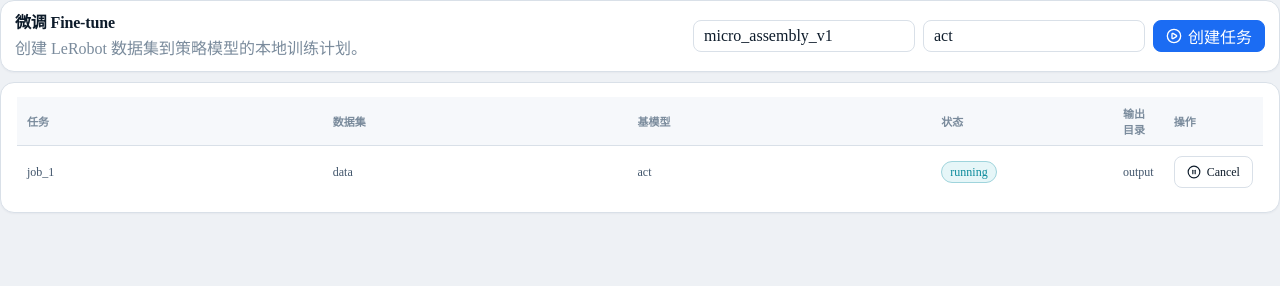
Test case: fineTune 请求生命周期 › 命令失败会显示错误并恢复可操作状态
Expected: the text "job_1" is shown, [17,146,323,198]
Click the button "创建任务" at {"x": 1209, "y": 36}, box [1153,20,1265,52]
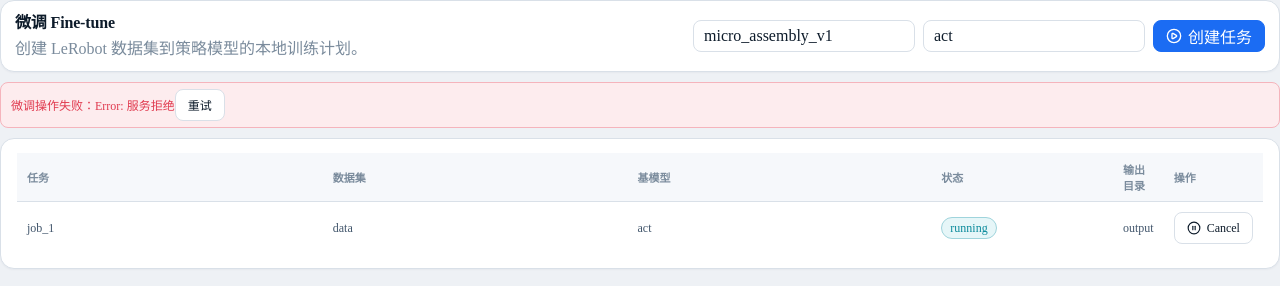
Expected: the message shows "服务拒绝", [11,99,175,113]
